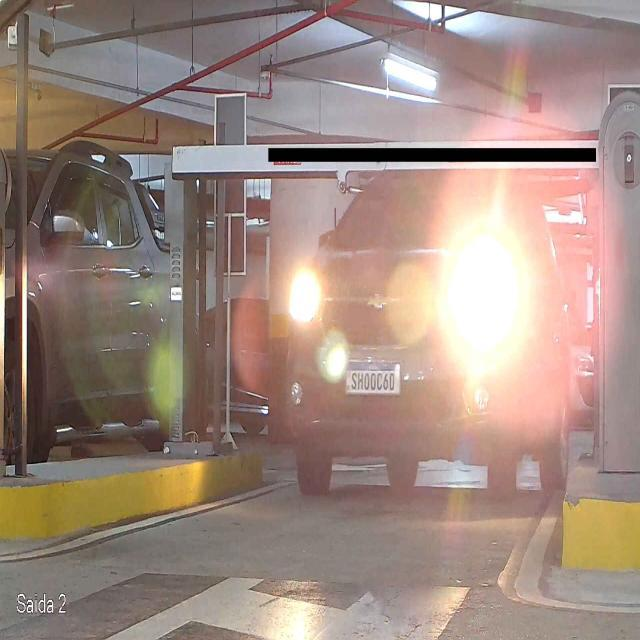mercosul_plate: (342, 359, 402, 397)
